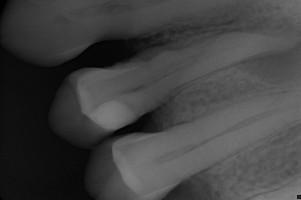Furcation Involvement: (230, 15, 301, 84)
